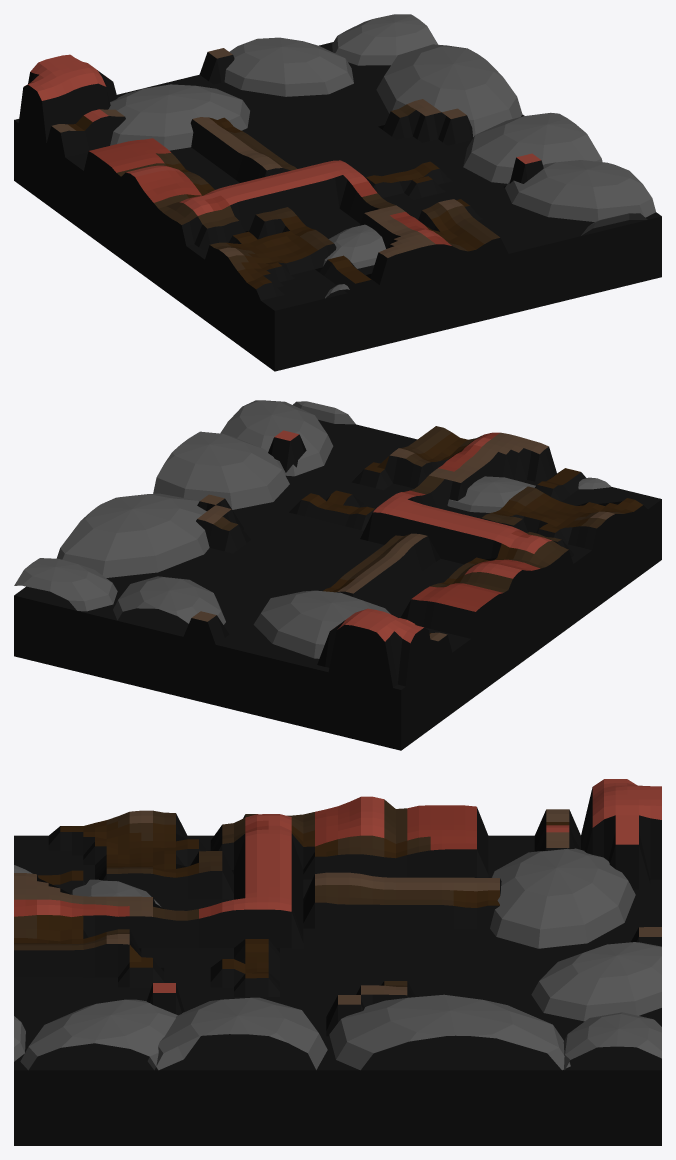
3 views of the same model, one above another, from view 1: azimuth 30°, elevation 25°; view 2: azimuth 150°, elevation 25°; view 3: azimuth 270°, elevation 25° (orthographic). The views are drawn at different scales.
Parts seen in each view (by area): view 1: shapesz-t161; view 2: shapesz-t161; view 3: shapesz-t161.
Boxes of the visible parts, box(x1,y1,x2,y2) form: shapesz-t161: box(14, 14, 661, 371); shapesz-t161: box(14, 400, 661, 750); shapesz-t161: box(14, 779, 661, 1145).
Size of the model in its own units: 2 by 0.56 by 2.33.
